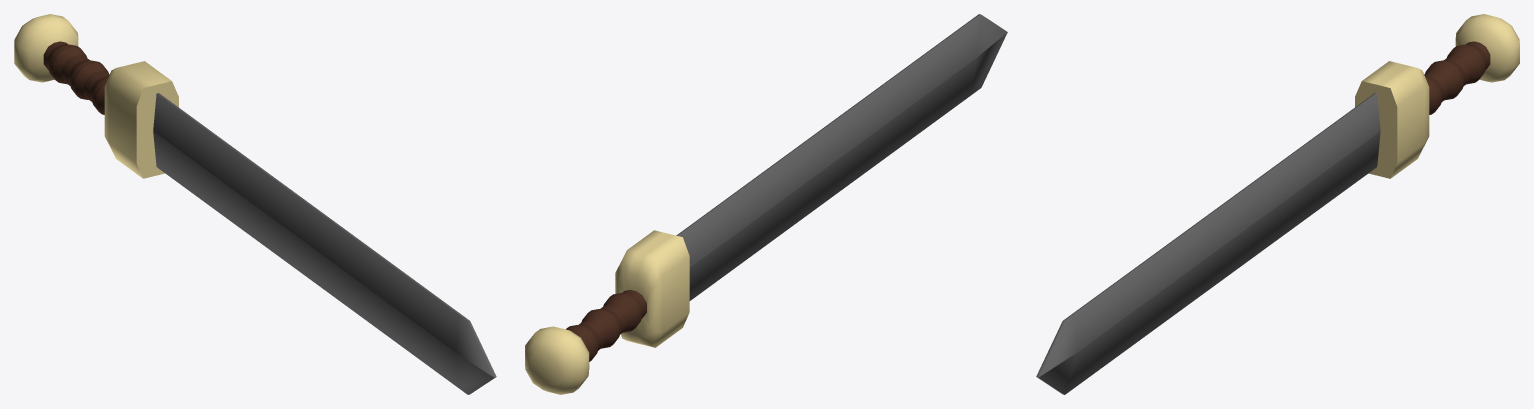
Rendered from Gladius_1.fbx.
The picture shows the model from 3 angles, left to right: view 1: azimuth 30°, elevation 25°; view 2: azimuth 150°, elevation 25°; view 3: azimuth 330°, elevation 25°; orthographic projection.
Parts seen in each view (by area): view 1: Gladius_1; view 2: Gladius_1; view 3: Gladius_1.
Boxes of the visible parts, x1=… form: Gladius_1: x1=14, y1=14, x2=496, y2=394; Gladius_1: x1=525, y1=14, x2=1007, y2=394; Gladius_1: x1=1036, y1=14, x2=1519, y2=394.
Size of the model in its own units: 6.43 by 9.6 by 88.5.
